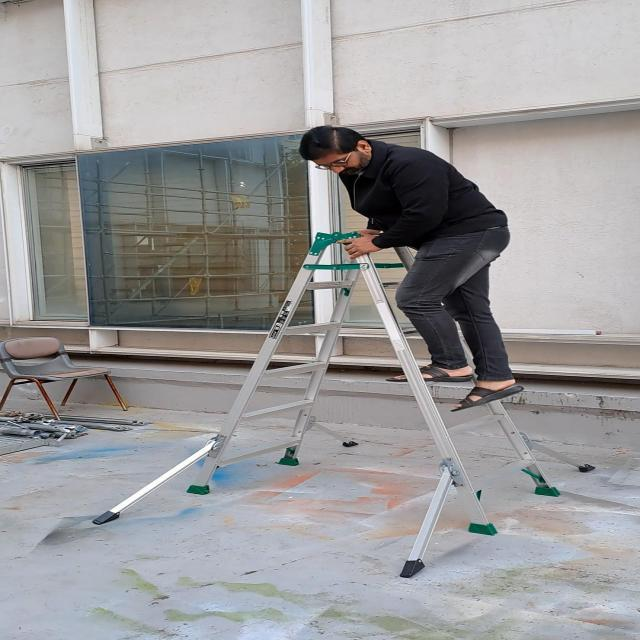boots: (79, 227, 603, 586)
vest: (294, 122, 530, 414)
